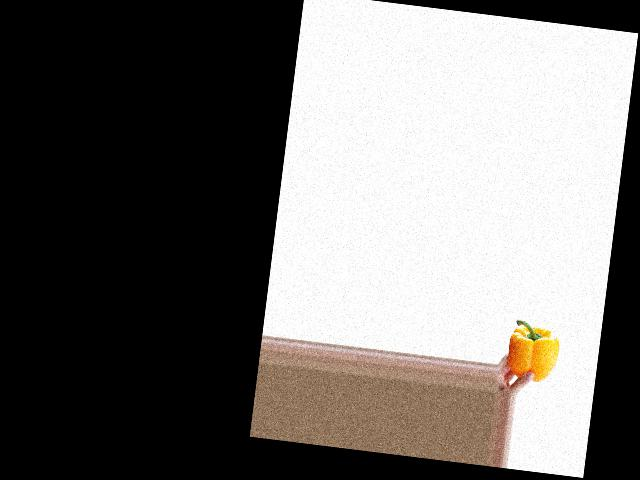bell_pepper: (505, 316, 563, 385)
